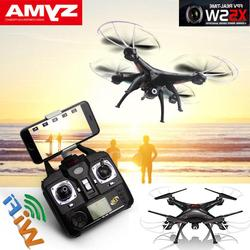drone: (89, 20, 240, 125)
